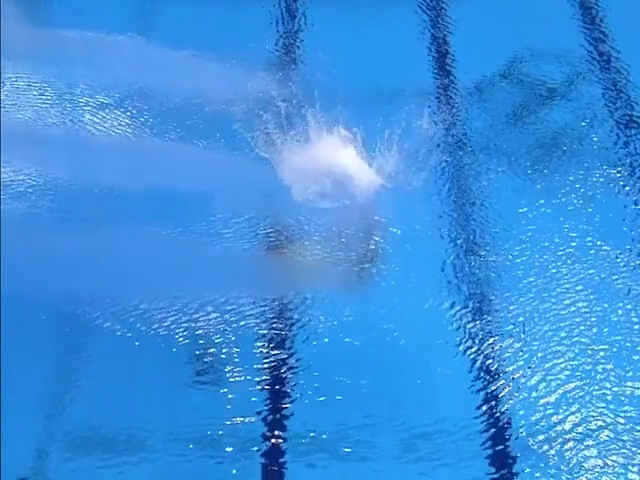splash: (208, 46, 432, 208)
